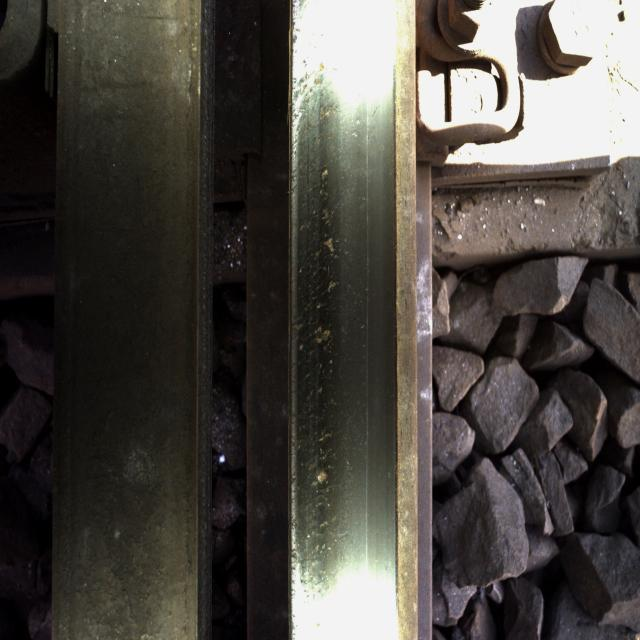scar: (290, 7, 359, 615)
